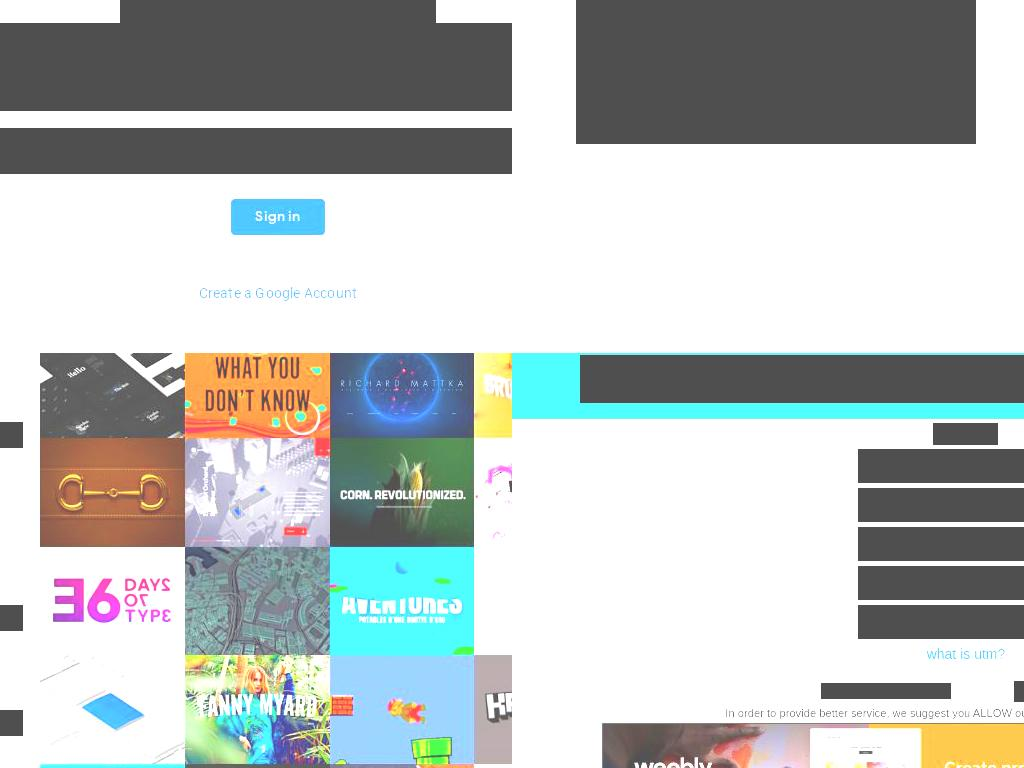button: (184, 546, 330, 656), (329, 546, 475, 656), (40, 546, 185, 656), (184, 438, 330, 547), (329, 438, 475, 547), (184, 655, 330, 764), (329, 655, 475, 764), (40, 438, 185, 547), (40, 655, 185, 764), (184, 353, 330, 439), (329, 353, 475, 439), (40, 353, 185, 439), (474, 546, 512, 656), (474, 438, 512, 547), (474, 655, 512, 764), (474, 353, 512, 439)
field: (580, 355, 1024, 403), (858, 449, 1024, 483), (858, 488, 1024, 522), (858, 527, 1024, 561), (858, 566, 1024, 600), (858, 605, 1024, 639)
iframe: (576, 0, 976, 144), (602, 723, 1024, 768)
image: (184, 546, 330, 656), (329, 546, 475, 656), (40, 546, 185, 656), (184, 438, 330, 547), (329, 438, 475, 547), (184, 655, 330, 764), (329, 655, 475, 764), (40, 438, 185, 547), (40, 655, 185, 764), (184, 353, 330, 439), (329, 353, 475, 439), (40, 353, 185, 439), (120, 0, 436, 23), (474, 546, 512, 656), (474, 438, 512, 547), (474, 655, 512, 764), (474, 353, 512, 439)
link: (198, 285, 357, 301), (409, 152, 503, 174)
text: (0, 23, 512, 111), (0, 128, 512, 174), (725, 707, 1024, 719), (821, 683, 951, 699), (933, 423, 998, 445), (926, 646, 1005, 662)
